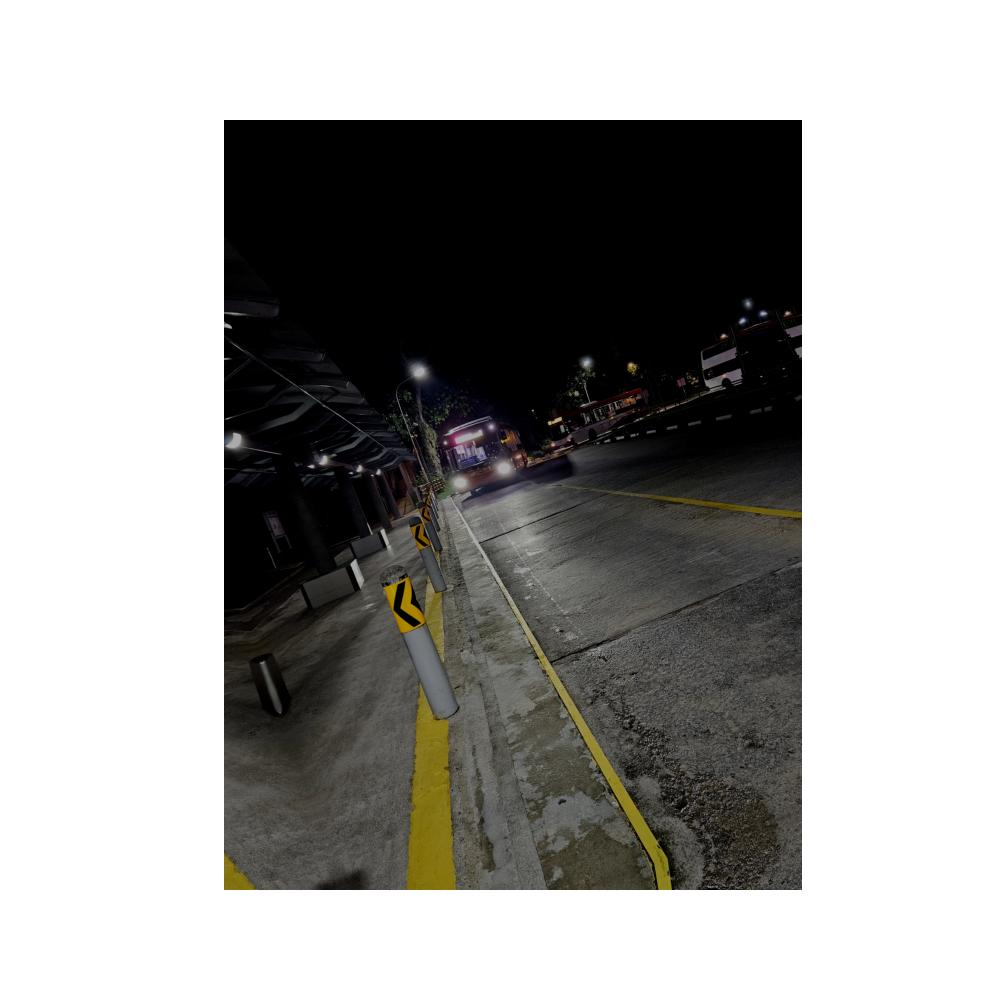bus: (436, 407, 579, 484)
